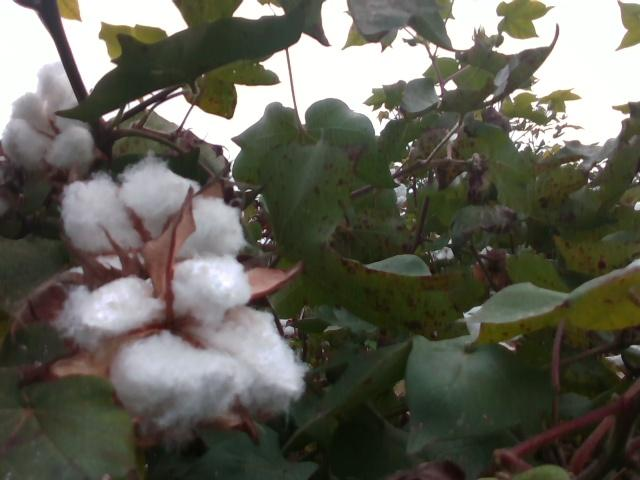cotton_ready: (52, 256, 309, 425), (61, 151, 255, 252), (1, 60, 101, 167)
